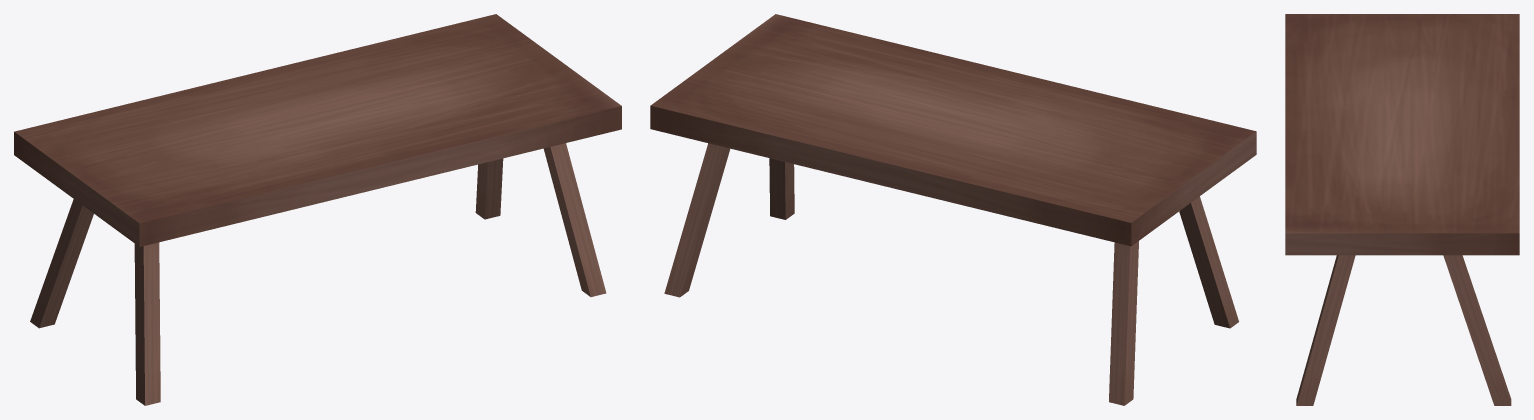
File: table.gltf
The picture shows the model from 3 angles, left to right: view 1: azimuth 30°, elevation 25°; view 2: azimuth 150°, elevation 25°; view 3: azimuth 270°, elevation 25°; orthographic projection. The views are drawn at different scales.
Parts seen in each view (by area): view 1: Table, TableStand1, TableStand2, TableStand3, TableStand4; view 2: Table, TableStand3, TableStand4, TableStand1, TableStand2; view 3: Table, TableStand4, TableStand2.
Part boxes in pixels (x1,y1,x2,y2): Table: (14, 14, 621, 246); TableStand1: (134, 242, 160, 405); TableStand2: (544, 143, 606, 296); TableStand3: (30, 199, 93, 328); TableStand4: (475, 158, 503, 219); Table: (650, 14, 1256, 246); TableStand3: (1109, 241, 1138, 405); TableStand4: (664, 143, 730, 297); TableStand1: (1179, 196, 1238, 328); TableStand2: (769, 158, 794, 219); Table: (1285, 14, 1519, 255); TableStand4: (1443, 255, 1511, 405); TableStand2: (1296, 255, 1355, 405).
Bounding box in the file's own units: 2.63 × 0.9882 × 1.19.
2 materials, 2 textured.
